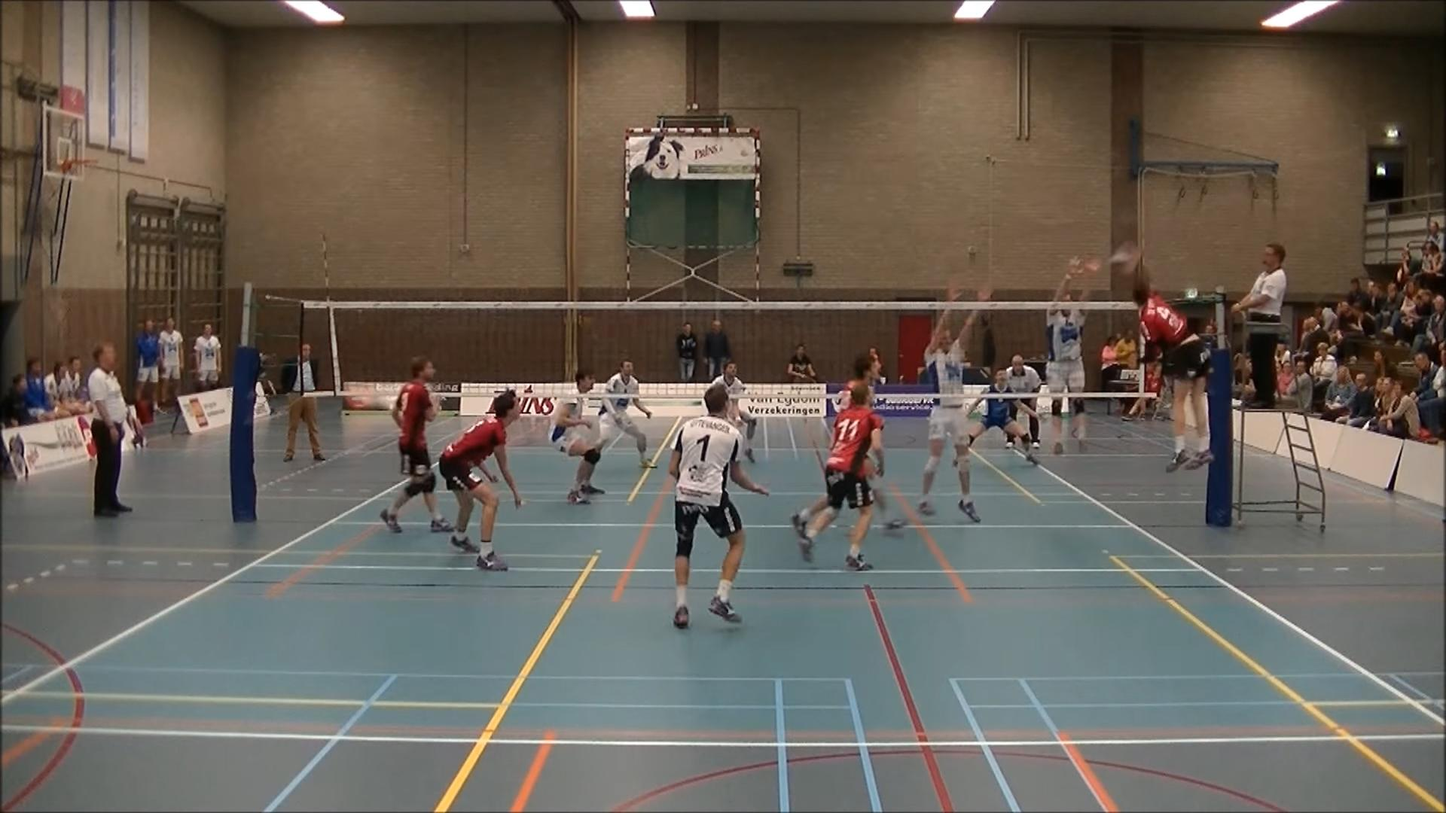Attack: (1119, 269, 1232, 479)
Block: (911, 268, 994, 526), (1036, 246, 1103, 458)
Player: (668, 383, 767, 628), (799, 383, 883, 571), (438, 390, 522, 571), (381, 357, 452, 532), (957, 369, 1037, 522), (550, 370, 603, 504), (599, 360, 653, 467), (712, 361, 757, 461), (835, 351, 880, 420), (1121, 358, 1162, 421)
